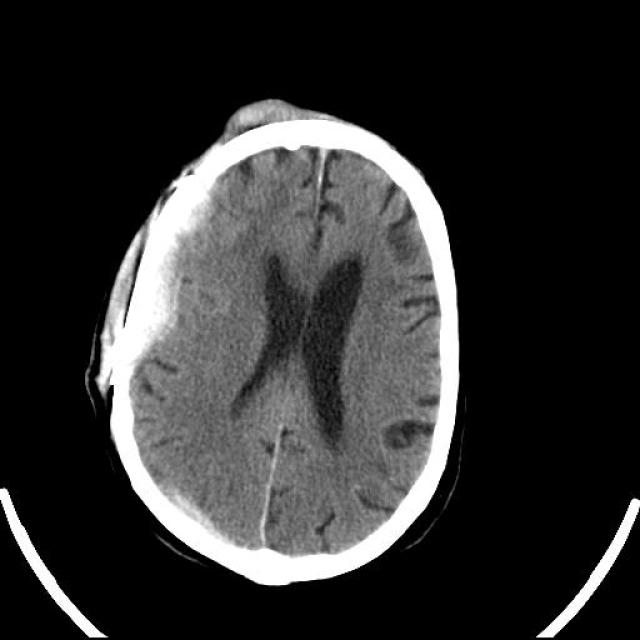Subdural: (110, 179, 239, 369)
